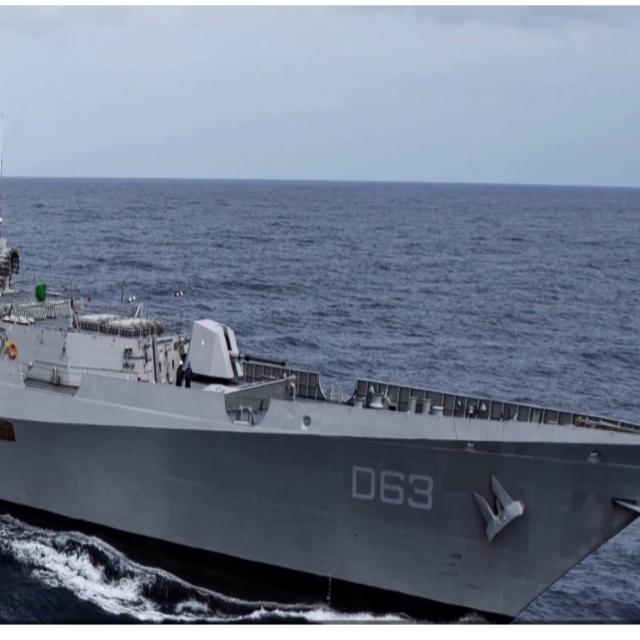OCR: (349, 462, 436, 518)
